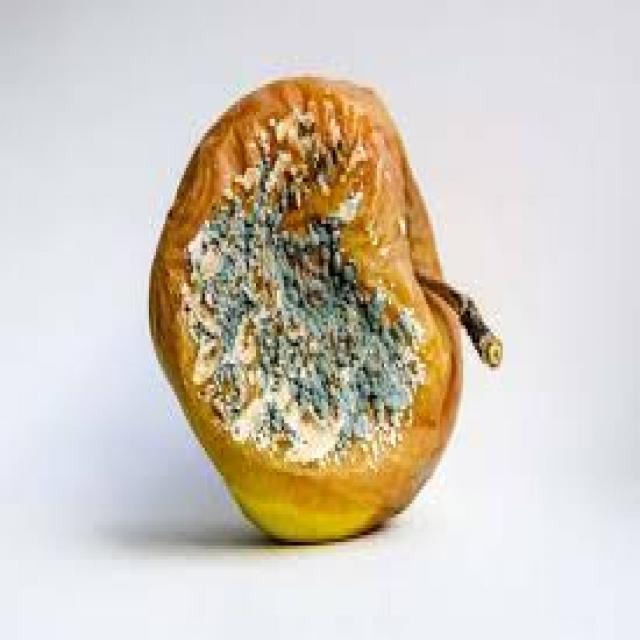organic waste: (144, 70, 500, 542)
